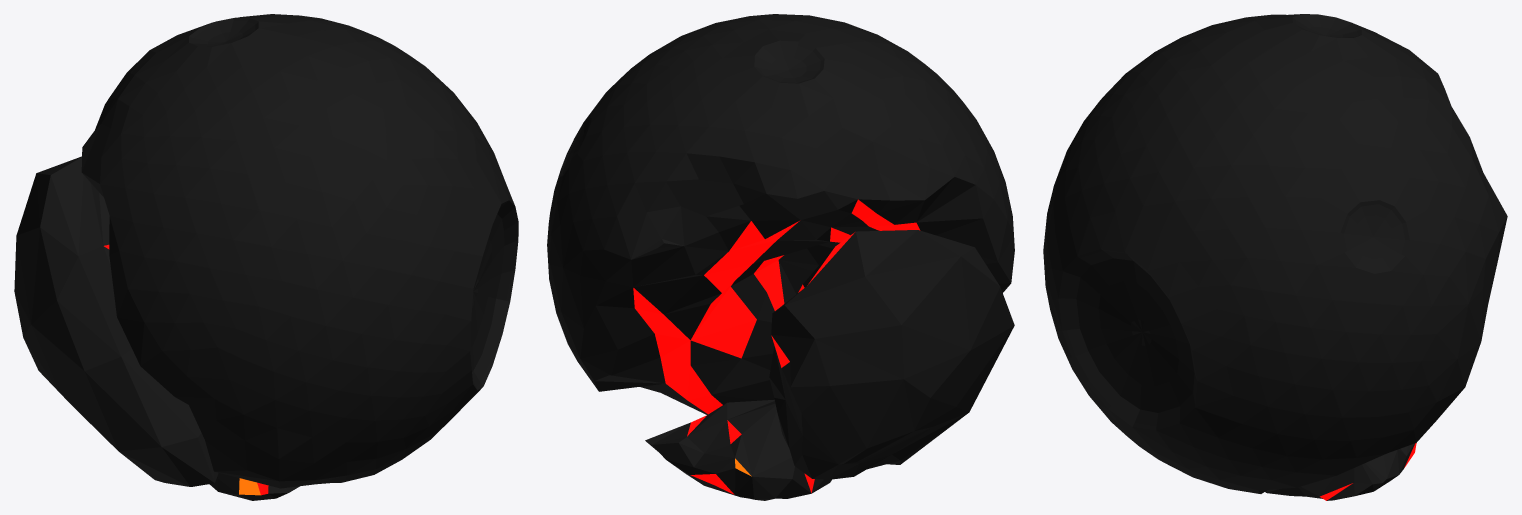
The model's file is Planet4.glb.
3 views of the same model, side by side, from view 1: azimuth 30°, elevation 25°; view 2: azimuth 150°, elevation 25°; view 3: azimuth 270°, elevation 25° (orthographic). The views are drawn at different scales.
Parts seen in each view (by area): view 1: Planet4-main, Planet4-left, Planet4-right-small; view 2: Planet4-main, Planet4-left, Planet4-right-small; view 3: Planet4-main, Planet4-right-small.
Part boxes in pixels (box(x1,y1,x2,y2)): Planet4-main: box(81, 14, 518, 488); Planet4-left: box(14, 156, 218, 486); Planet4-right-small: box(209, 473, 299, 500); Planet4-main: box(547, 14, 1014, 414); Planet4-left: box(769, 230, 1014, 479); Planet4-right-small: box(645, 399, 831, 500); Planet4-main: box(1043, 14, 1507, 493); Planet4-right-small: box(1265, 443, 1416, 500).
Bounding box in the file's own units: 10.32 × 10.38 × 9.65.
